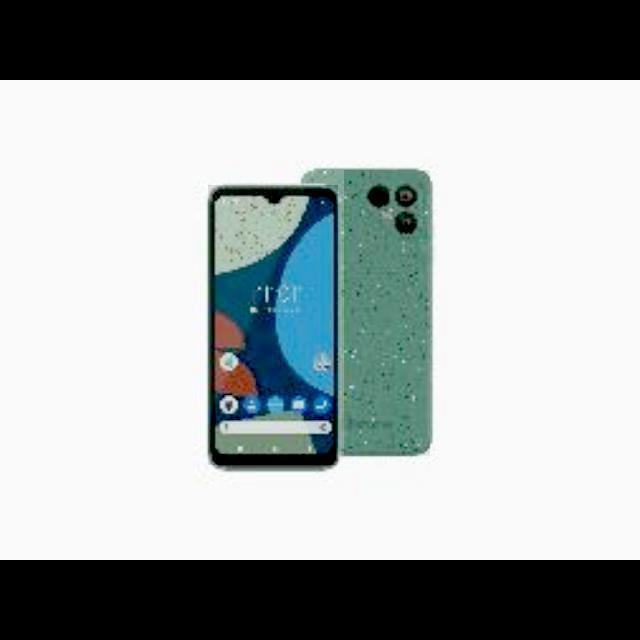mobile: (208, 185, 338, 465), (344, 170, 430, 456)
